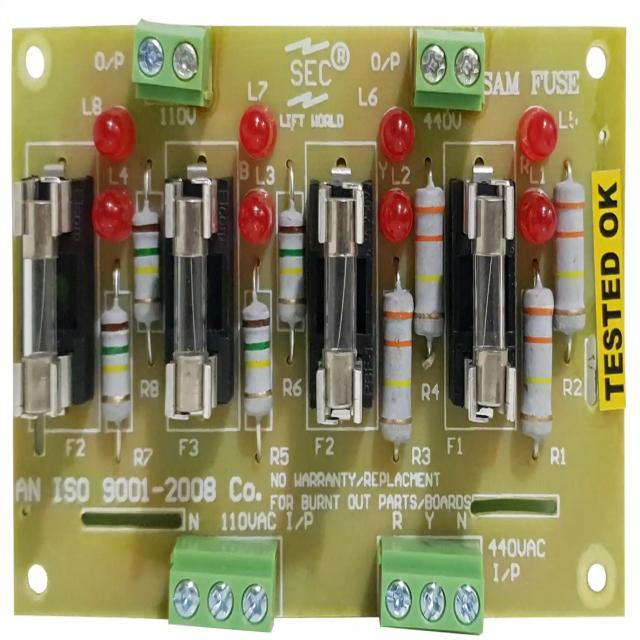LED: (517, 100, 561, 181), (375, 97, 415, 176), (89, 177, 136, 244), (92, 111, 139, 165), (240, 100, 281, 160), (523, 183, 554, 257), (379, 182, 411, 243), (241, 189, 273, 241)
connector -5v-: (373, 534, 486, 638), (161, 536, 277, 634), (131, 17, 216, 120), (410, 24, 488, 110)
fuse F1: (13, 176, 75, 430), (462, 172, 518, 429), (164, 178, 215, 424), (318, 180, 365, 422)
resistor IR1: (522, 273, 556, 436), (99, 284, 134, 438), (382, 282, 413, 443), (130, 195, 162, 342), (560, 188, 592, 334), (277, 191, 308, 333), (240, 295, 272, 421), (417, 185, 442, 342)
